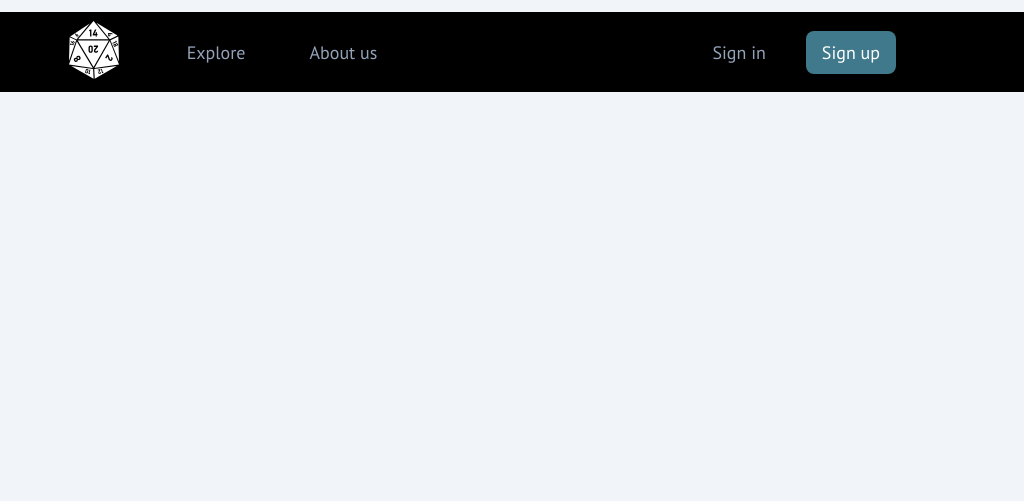
Test case: Header › when user clicks in explore tab › should hide option all three options when clicking explore tab twice
What coordinates should you click on to do the following:
click the link "Explore"
I would click on:
 (216, 52)
Its box is [187,38,246,66].
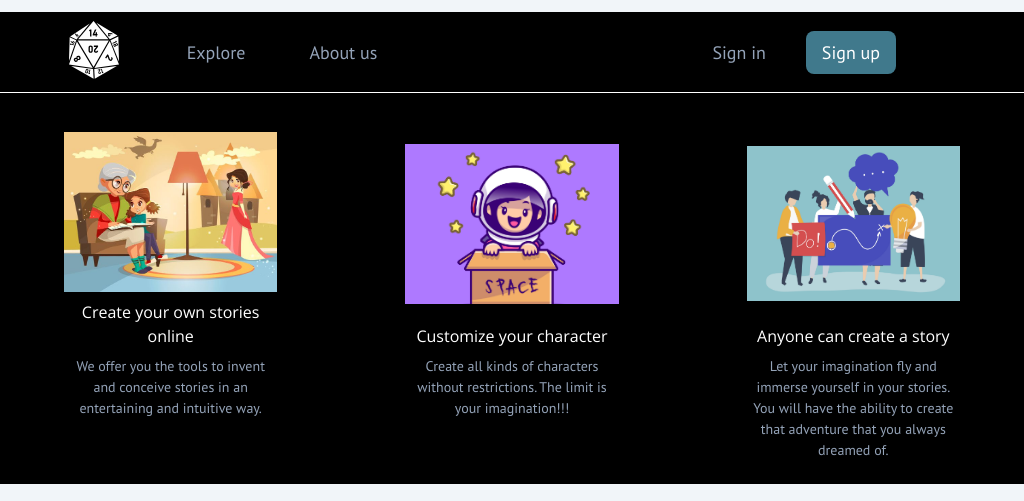
What coordinates should you click on to do the following:
click the link "Explore"
I would click on:
 (216, 52)
Its box is [187,38,246,66].
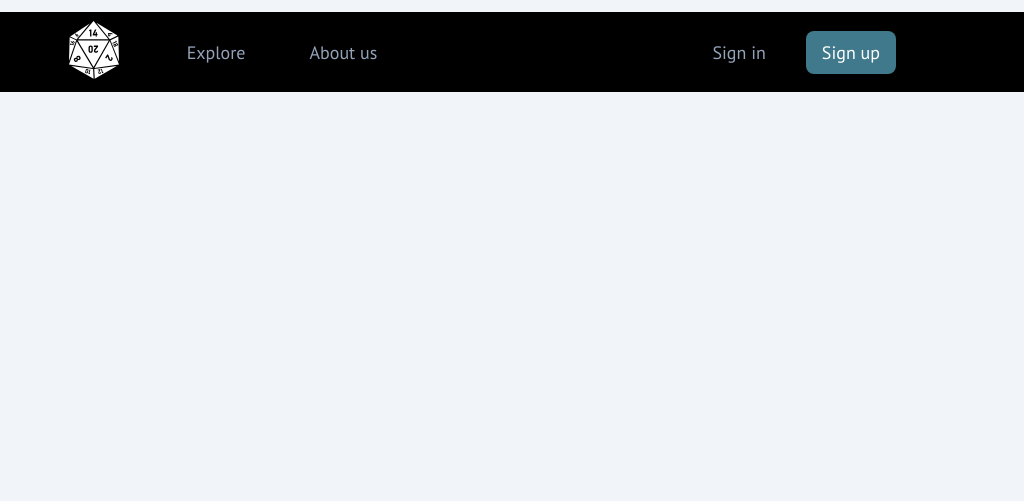
Expected: the heading "Create your own stories online" is gone
